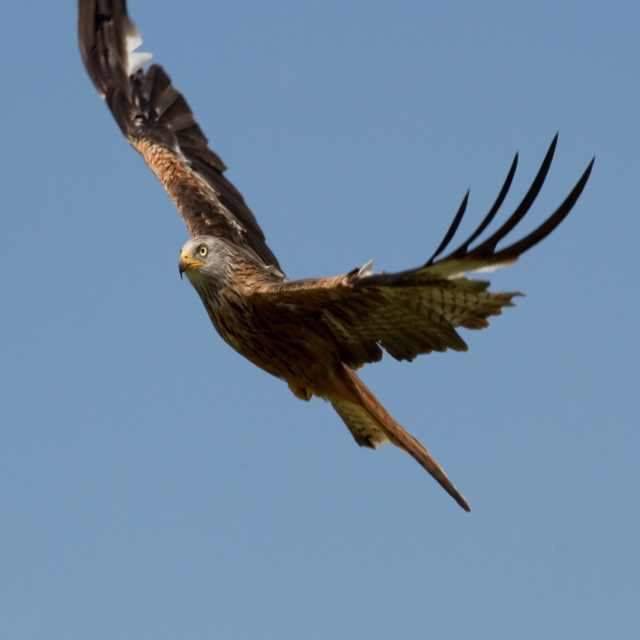Eagle: (77, 0, 594, 511)
